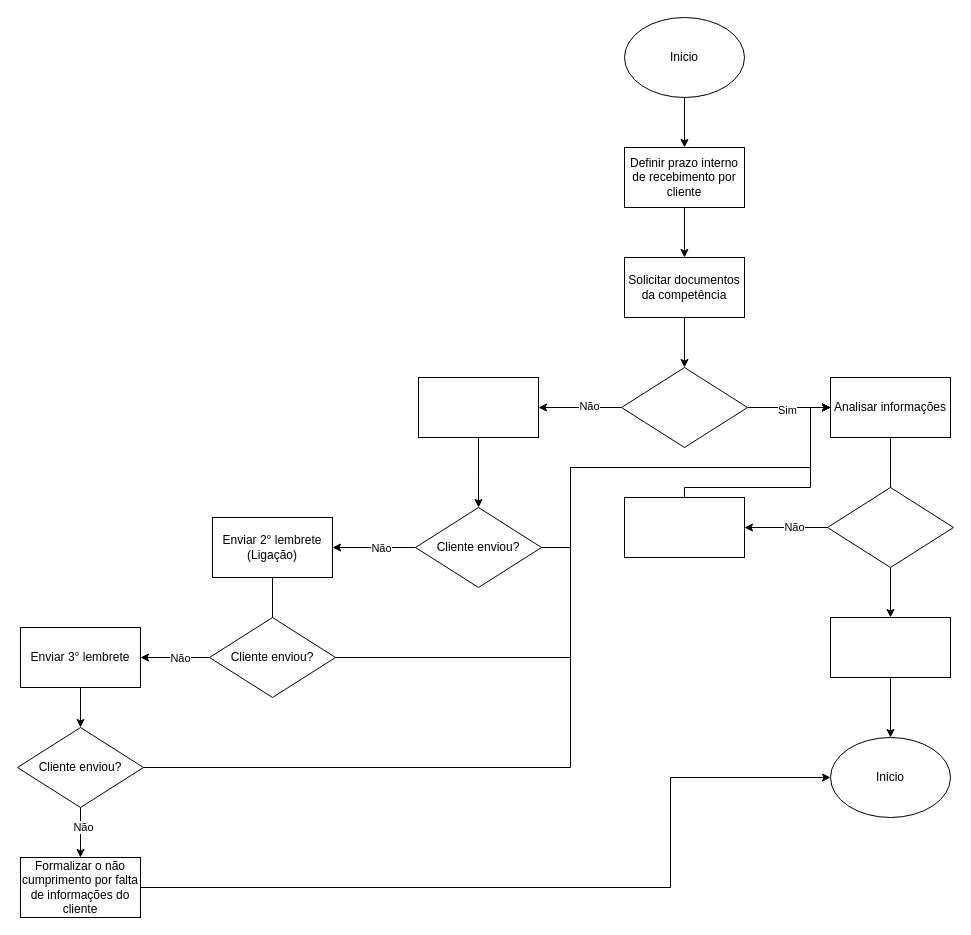
Image size: 971x935. Some labels were removed from this diagram. Here are the shapes that lost their labels. From the top down, the centre of each, then its label:
At pixel 478 407: "Enviar 1º lembrete (Mensagem)".
At pixel 684 407: "Cliente enviou dentro do prazo?".
At pixel 684 527: "Solicitar retificação (registrar pendencias)".
At pixel 890 527: "Informações corretas?".
At pixel 890 647: "Armazenar e organizar por competencia e tipo".
